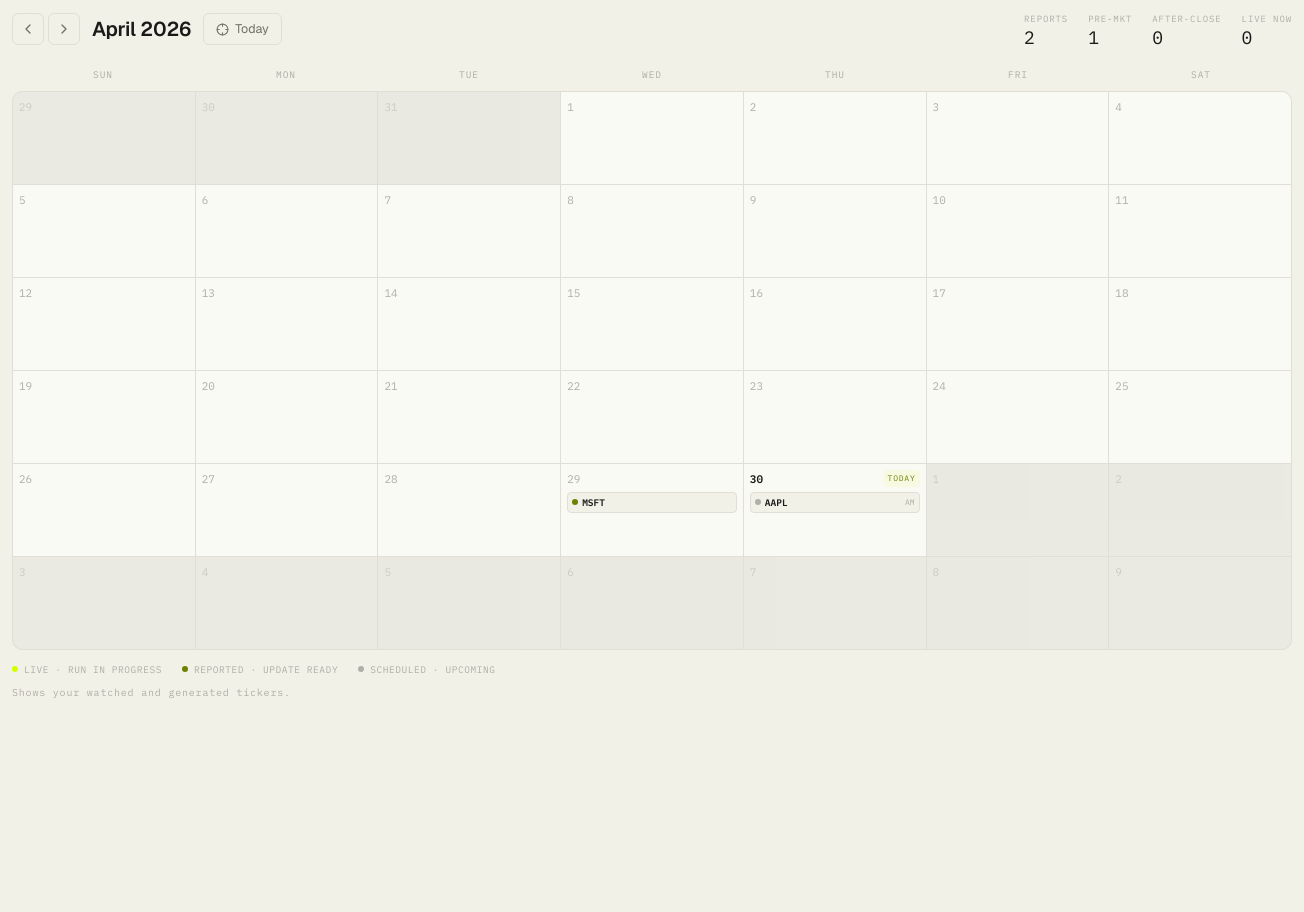
EuCalendar › navigates to the next month and back to today
Click the button named "next month".
click(64, 29)  # box [48,13,80,45]
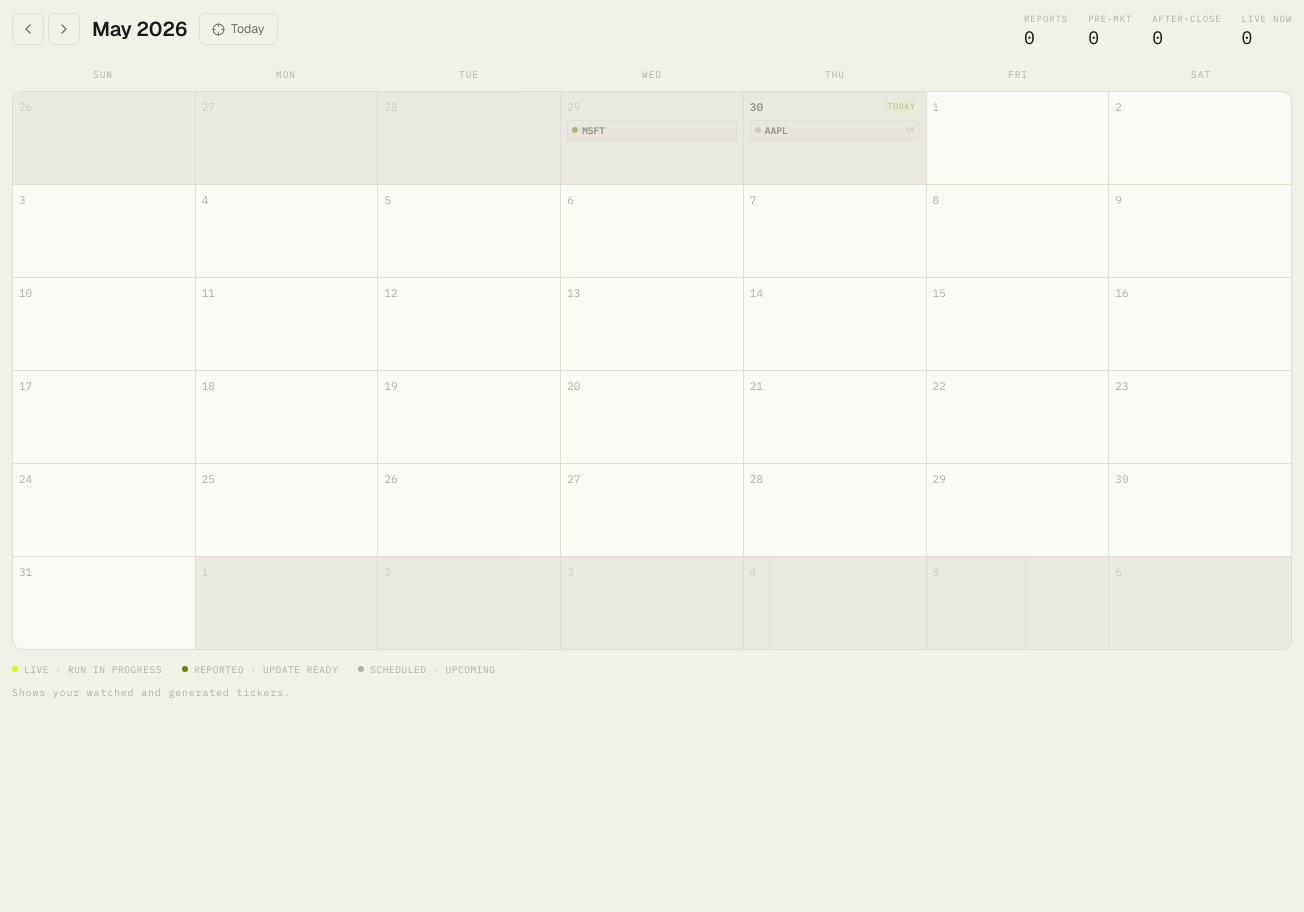
Check: the heading with test id "eu-cal-month" reads "May 2026", box [92,16,187,42]
Click the button "Today".
click(238, 29)  # box [199,13,278,45]
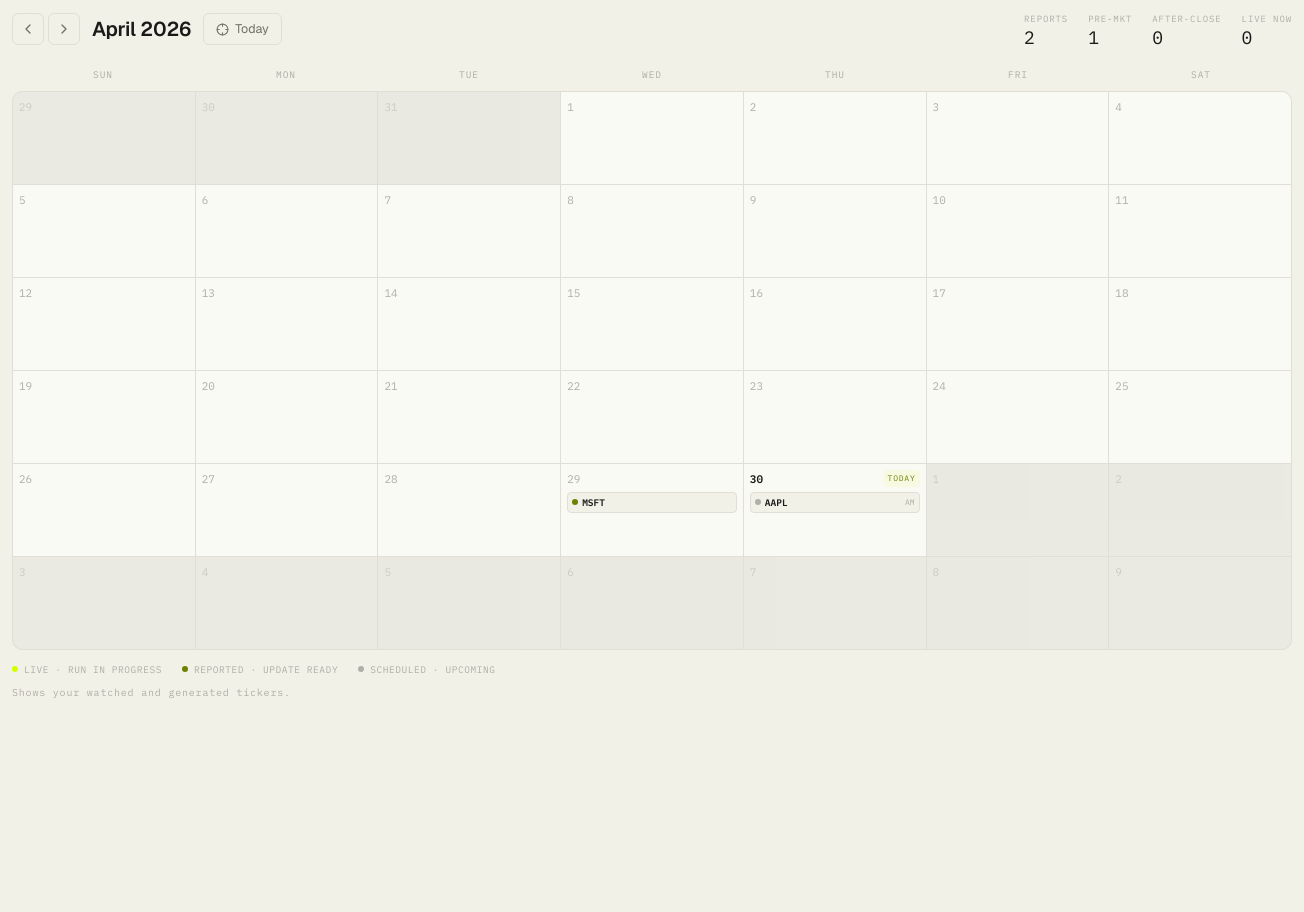
Check: the heading with test id "eu-cal-month" reads "April 2026", box [92,16,191,42]
